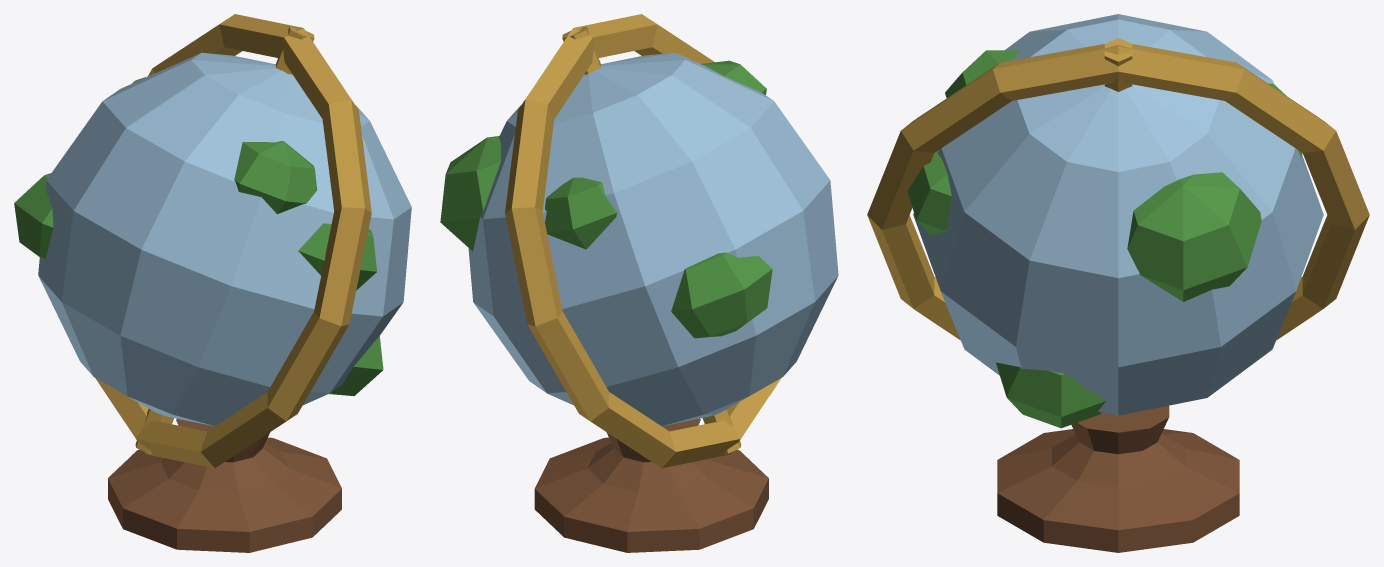
File: SM_LPI_Decor_Globe_01.fbx
3 renders of one model, left to right at view 1: azimuth 30°, elevation 25°; view 2: azimuth 150°, elevation 25°; view 3: azimuth 270°, elevation 25°, orthographic. The views are drawn at different scales.
Visible parts, largest first — view 1: SM_LPI_Decor_Globe_01; view 2: SM_LPI_Decor_Globe_01; view 3: SM_LPI_Decor_Globe_01.
Part boxes in pixels (left/top/right/bottom): SM_LPI_Decor_Globe_01: left=14, top=14, right=411, bottom=552; SM_LPI_Decor_Globe_01: left=440, top=14, right=838, bottom=552; SM_LPI_Decor_Globe_01: left=867, top=14, right=1369, bottom=552.
Bounding box in the file's own units: 0.2362 × 0.3063 × 0.2816.
